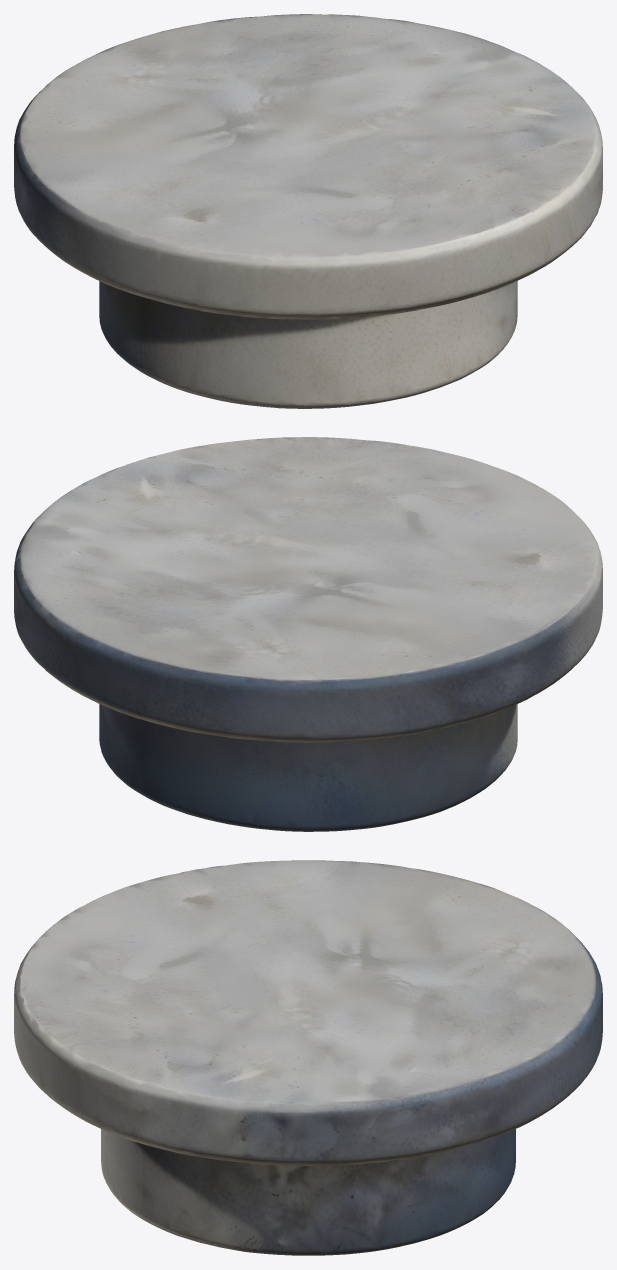
File: rockPlatform.fbx
The picture shows the model from 3 angles, top to bottom: view 1: azimuth 30°, elevation 25°; view 2: azimuth 150°, elevation 25°; view 3: azimuth 270°, elevation 25°; orthographic projection.
Visible parts, largest first — view 1: tripo_node_4f4d66f2; view 2: tripo_node_4f4d66f2; view 3: tripo_node_4f4d66f2.
Part boxes in pixels (x1,y1,x2,y2): tripo_node_4f4d66f2: (14, 14, 602, 408); tripo_node_4f4d66f2: (14, 437, 602, 831); tripo_node_4f4d66f2: (14, 860, 602, 1255).
Size of the model in its own units: 0.9999 by 0.3549 by 0.9997.
1 material, 1 textured.
